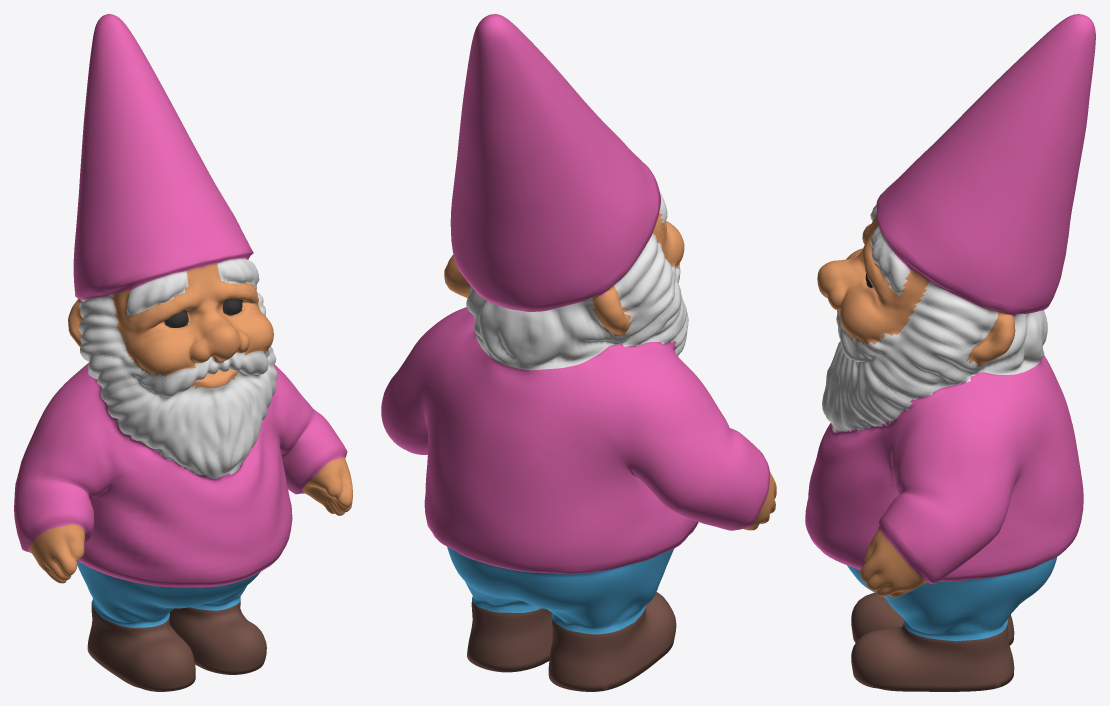
File: PinkGnome.fbx
3 renders of one model, left to right at view 1: azimuth 30°, elevation 25°; view 2: azimuth 150°, elevation 25°; view 3: azimuth 270°, elevation 25°, orthographic. The views are drawn at different scales.
Visible parts, largest first — view 1: 13184_PudgyGnome_v1_NEW; view 2: 13184_PudgyGnome_v1_NEW; view 3: 13184_PudgyGnome_v1_NEW.
Part boxes in pixels (<box>): 13184_PudgyGnome_v1_NEW: <box>14,14,352,691</box>; 13184_PudgyGnome_v1_NEW: <box>381,14,776,691</box>; 13184_PudgyGnome_v1_NEW: <box>805,14,1095,691</box>.
Bounding box in the file's own units: 1796 × 3175 × 1304.
